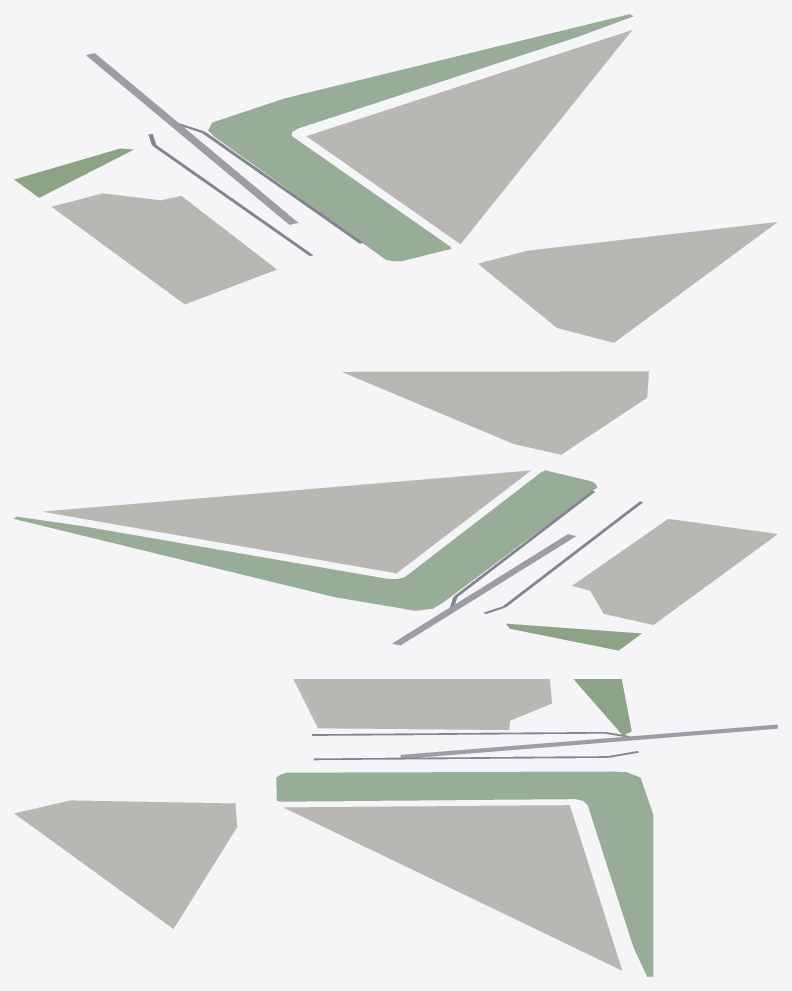
The model's file is 118_116_mid.glb.
3 renders of one model, top to bottom at view 1: azimuth 30°, elevation 25°; view 2: azimuth 150°, elevation 25°; view 3: azimuth 270°, elevation 25°, orthographic. The views are drawn at different scales.
Size of the model in its own units: 490 by 21.54 by 533.
